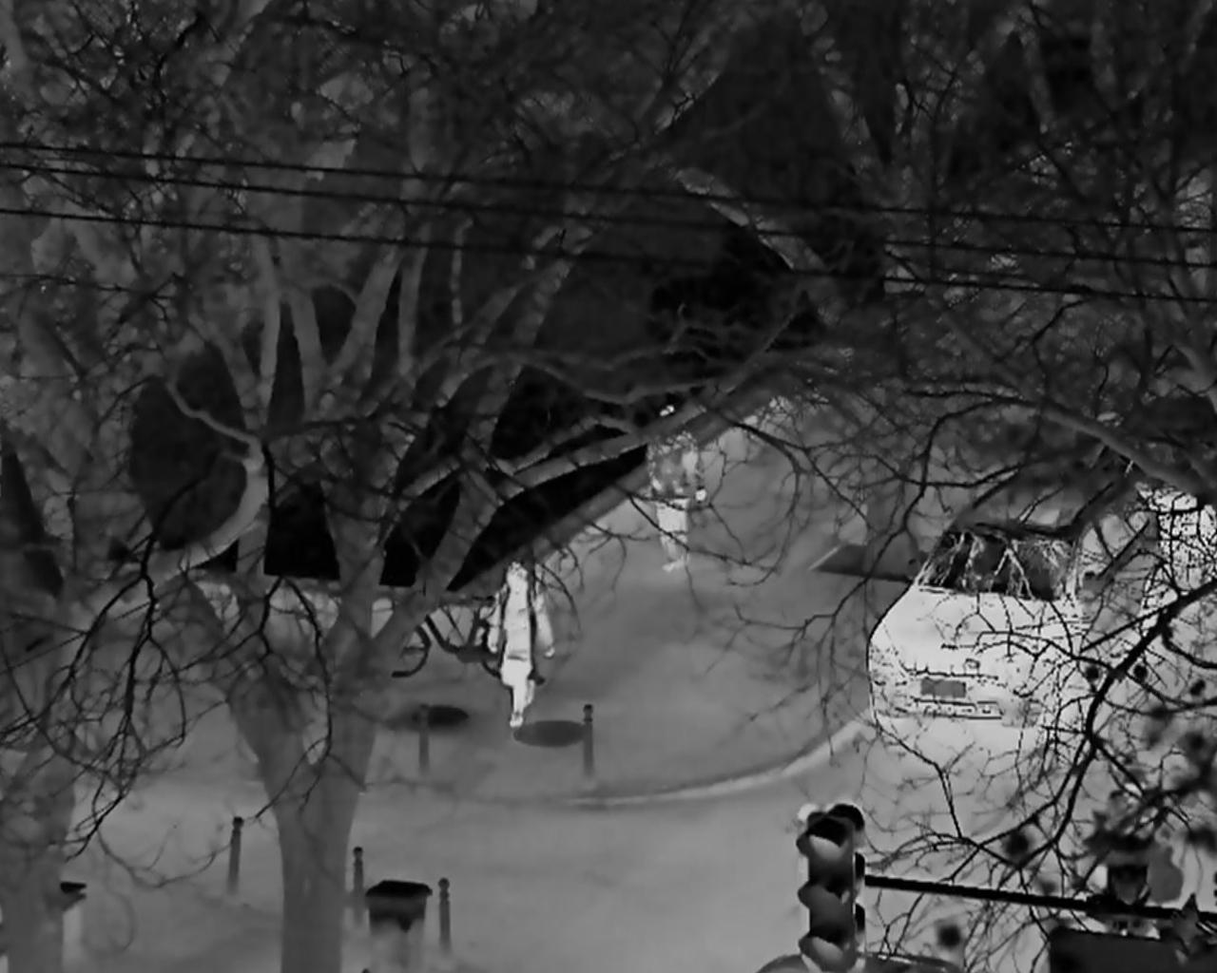person: (485, 561, 557, 730), (647, 432, 705, 572)
